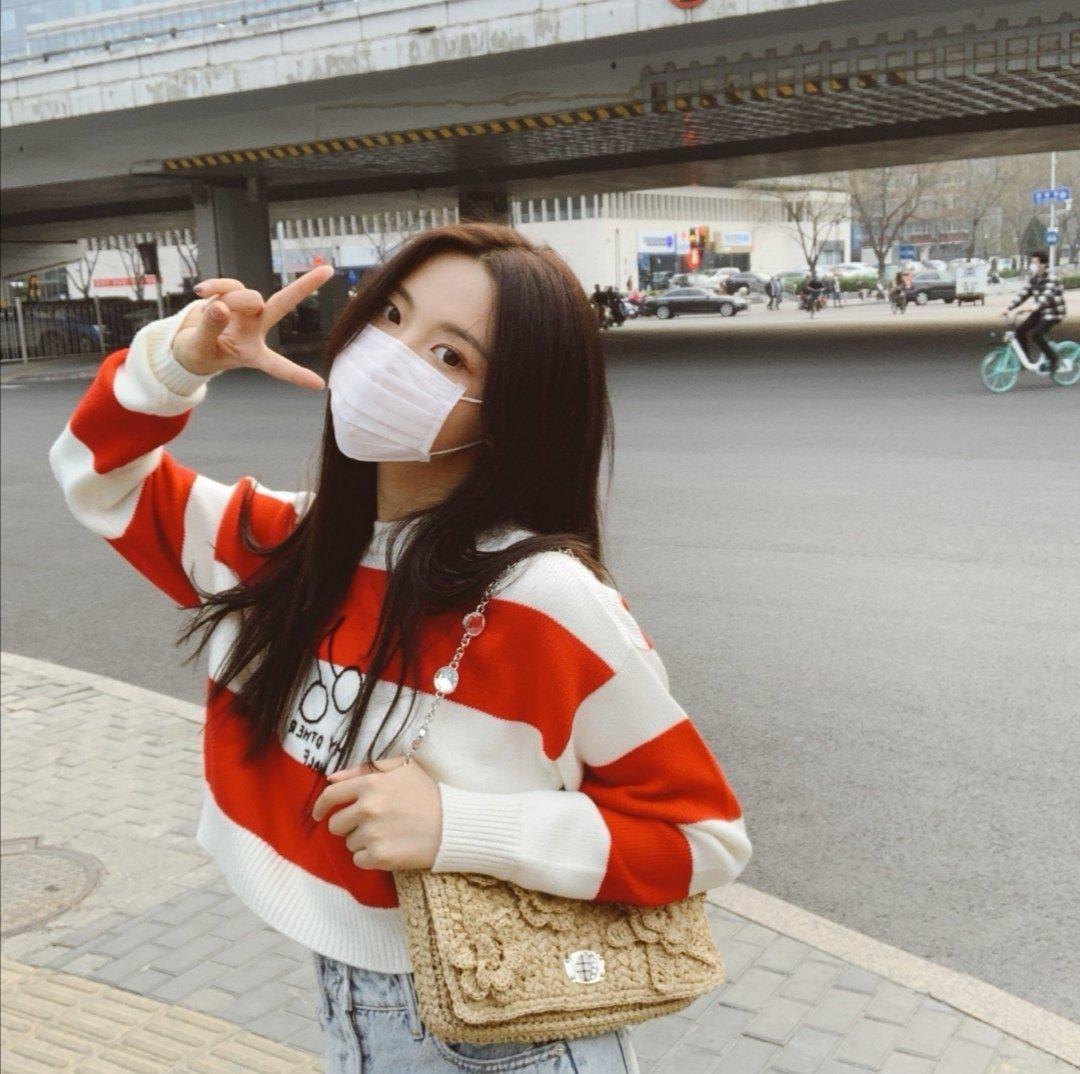OK: (328, 278, 488, 463)
